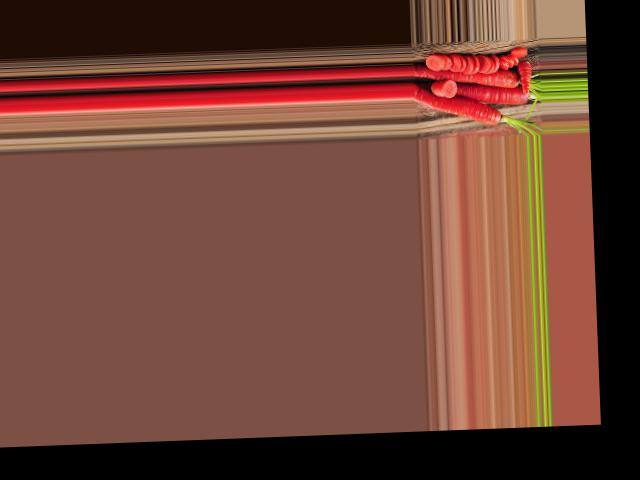carrot: (411, 59, 526, 95)
